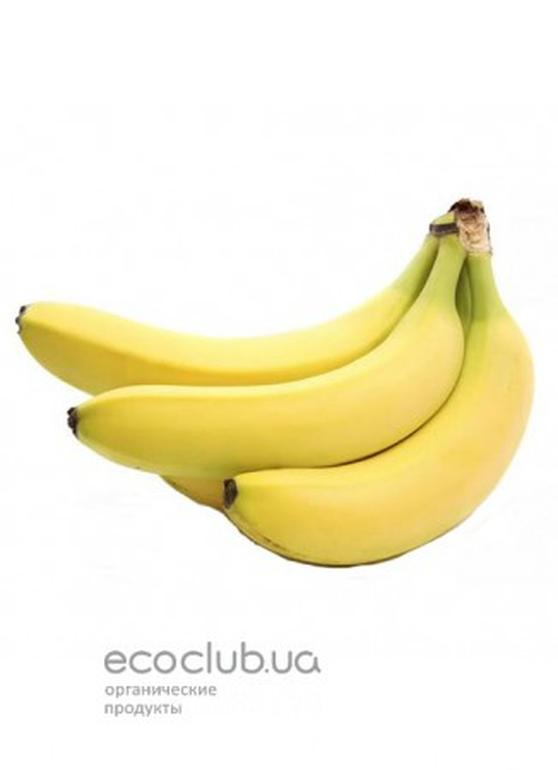banana: (223, 216, 539, 574), (65, 221, 468, 471)
